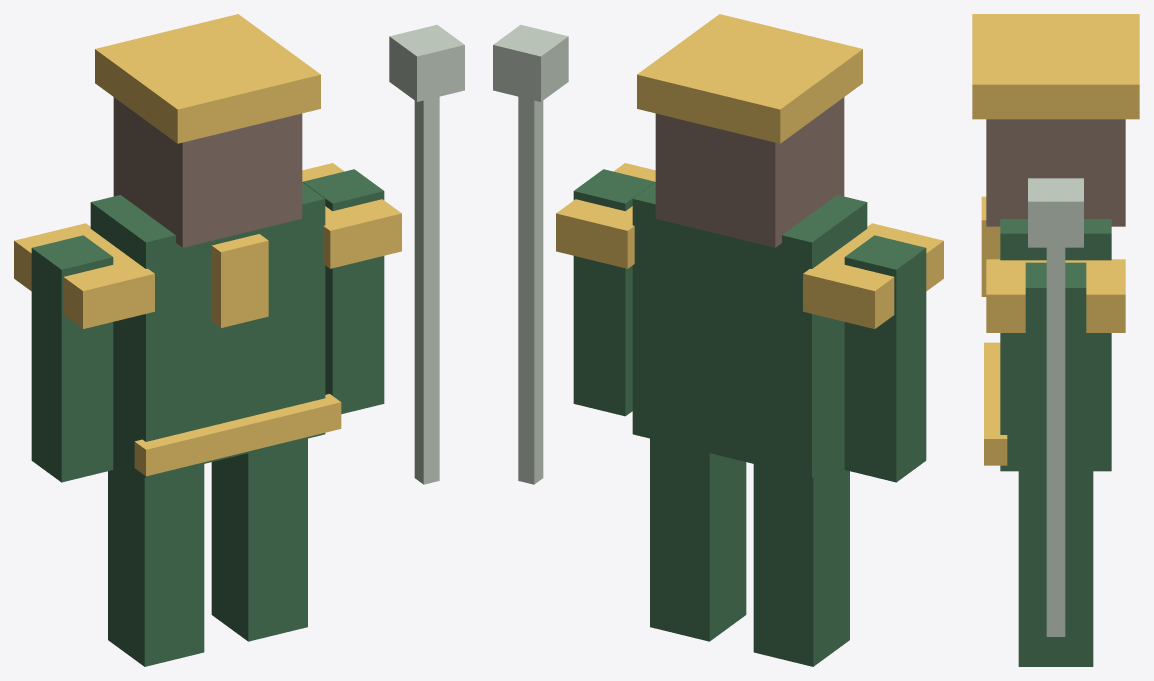
The model's file is 11_nix_latchward_warden_of_luminroot.glb.
3 renders of one model, left to right at view 1: azimuth 30°, elevation 25°; view 2: azimuth 150°, elevation 25°; view 3: azimuth 270°, elevation 25°, orthographic.
Parts seen in each view (by area): view 1: Nix Latchward, Warden of Luminroot; view 2: Nix Latchward, Warden of Luminroot; view 3: Nix Latchward, Warden of Luminroot.
Boxes of the visible parts, x1,y1,x2,y2 form: Nix Latchward, Warden of Luminroot: (14,14,464,666); Nix Latchward, Warden of Luminroot: (493,14,943,666); Nix Latchward, Warden of Luminroot: (972,14,1139,666).
Size of the model in its own units: 1.07 by 1.45 by 0.381.
